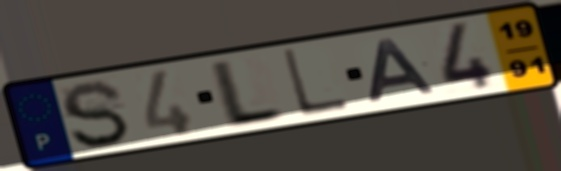4: (437, 20, 498, 93), (141, 66, 197, 138)
A: (366, 36, 441, 105)
L: (209, 57, 286, 131), (278, 46, 352, 119)
S: (57, 79, 134, 151)
